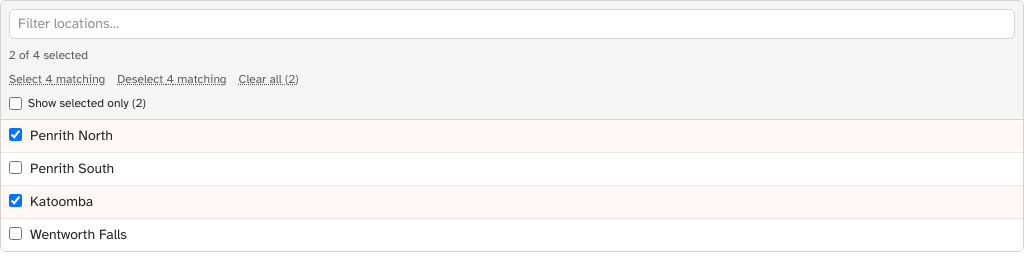
Test: MultiSelectList › 'Clear all' zeroes the whole selection, not just the filtered slice
Type "penrith" into the field labelled "Filter locations". click: point(512, 24)
box: [9, 9, 1015, 39]
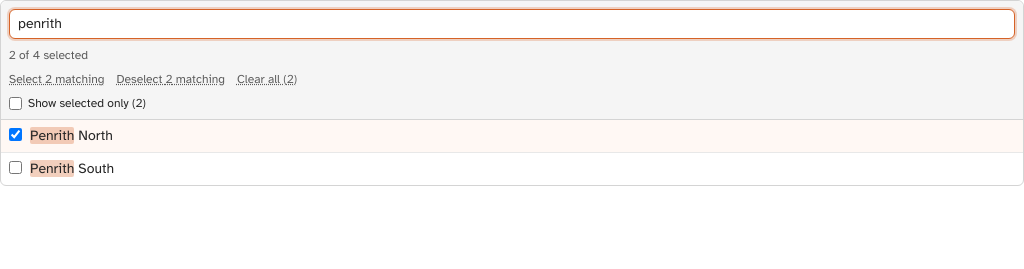
Click the button "Clear all (2)". click: point(267, 79)
box: [237, 71, 297, 87]
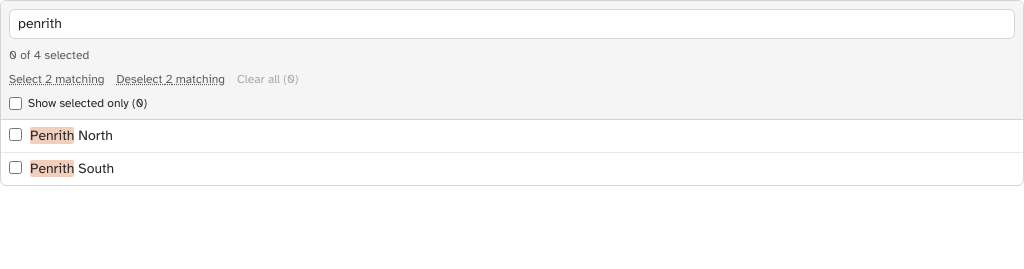
Clear the field named "Filter locations". click: point(512, 24)
box: [9, 9, 1015, 39]
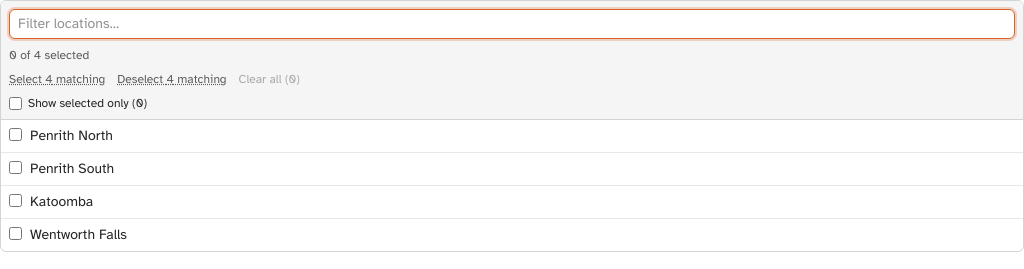
Check: the checkbox labelled "Penrith North" is not checked, box [9, 128, 22, 141]
Check: the checkbox labelled "Katoomba" is not checked, box [9, 194, 22, 207]
Check: the checkbox labelled "Wentworth Falls" is not checked, box [9, 227, 22, 240]
